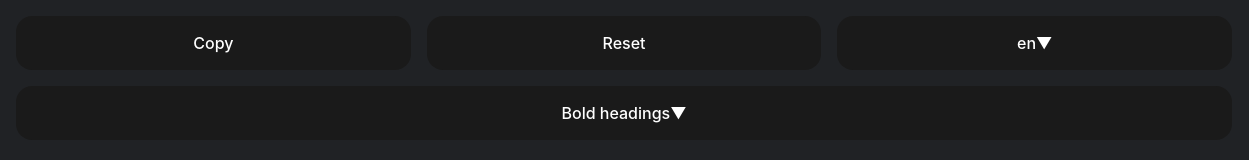
Test: Form controls › should render copy button with error text
Step 1. Click the button "Copy" → (213, 43), box [16,16,411,70]
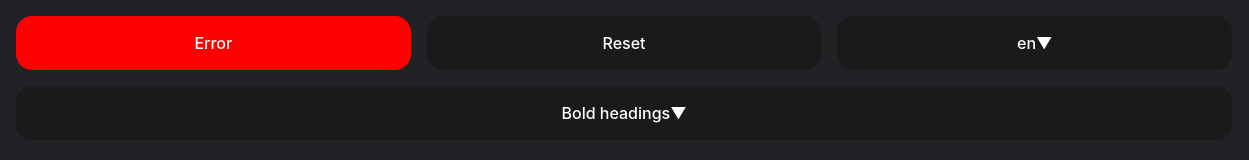
Now the button "copy" reads "Error", box [16,16,411,70]
